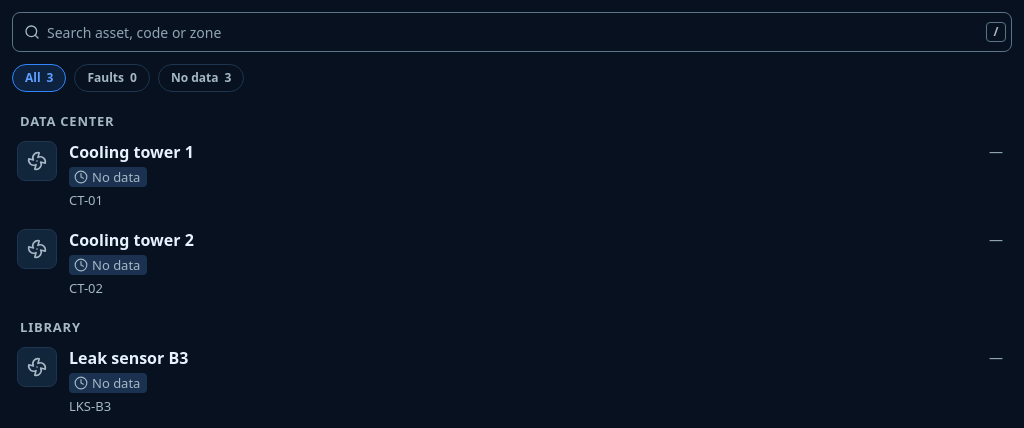
AssetFeed › when nothing is left to list › says no assets have a fault
The image size is (1024, 428).
Click the tab "Faults 0": (112, 78) 74,64 -> 150,92
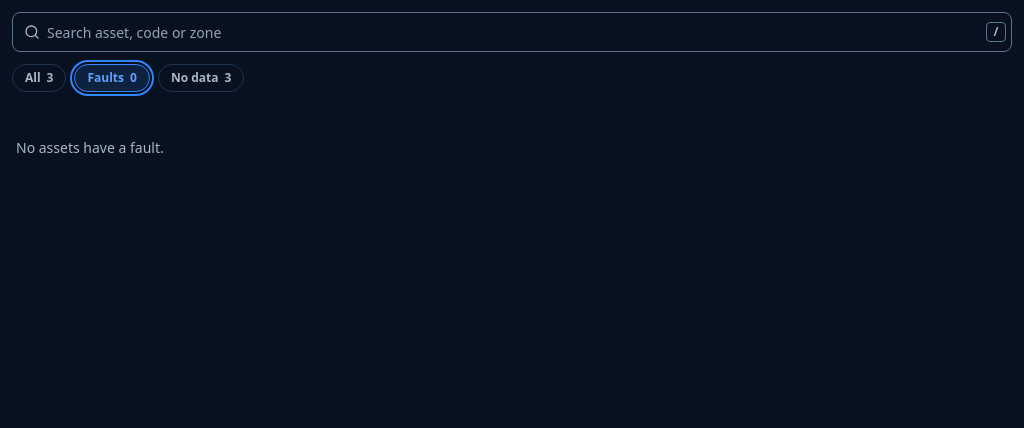
Check: the text "No assets have a fault." is shown, box 16,138 -> 164,157
